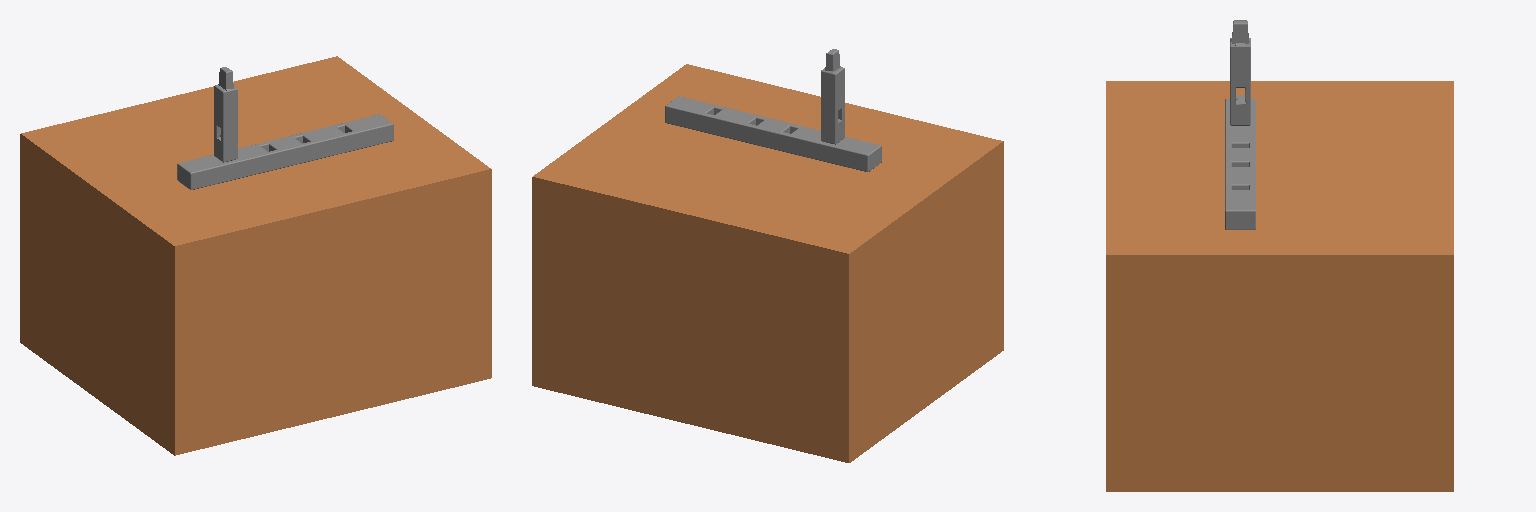
robot.urdf — table_beam_2x_0_scene_0003:
<?xml version="1.0"?>
<robot name="table_beam_2x_0_scene_0003">
  <link name="box">
    <visual>
      <material name="wood"><color rgba="0.82 0.56 0.35 1.0"/></material>
      <origin xyz="0 0 0"/>
      <geometry><box size="0.475 0.4 0.3"/></geometry>
    </visual>
    <collision>
      <origin xyz="0 0 0"/>
      <geometry><box size="0.475 0.4 0.3"/></geometry>
    </collision>
    <inertial>
      <mass value="500"/>
      <friction value="1.0"/>
      <inertia ixx="1000.0" ixy="0.0" ixz="0.0" iyy="1000.0" iyz="0.0" izz="1000.0"/>
    </inertial>
  </link>
  <link name="part_6_canonical">
    <visual>
      <origin xyz="0 0 0" rpy="0 0 0"/>
      <geometry><mesh filename="../../6/6_canonical.obj" scale="1 1 1"/></geometry>
      <material name="placed_0"><color rgba="0.6 0.6 0.6 1.0"/></material>
    </visual>
    <collision>
      <origin xyz="0 0 0" rpy="0 0 0"/>
      <geometry><mesh filename="../../6/6_canonical.obj" scale="1 1 1"/></geometry>
    </collision>
  </link>
  <joint name="part_6_canonical_joint" type="fixed">
    <parent link="box"/>
    <child link="part_6_canonical"/>
    <origin xyz="0.018060 -0.045461 0.162666" rpy="0.000000 0.000000 0.000000"/>
  </joint>
  <link name="part_2_hull_0">
    <visual>
      <origin xyz="0 0 0" rpy="0 0 0"/>
      <geometry><mesh filename="../../2/coacd/decomp_0.obj" scale="1 1 1"/></geometry>
      <material name="placed_1"><color rgba="0.6 0.6 0.6 1.0"/></material>
    </visual>
    <collision>
      <origin xyz="0 0 0" rpy="0 0 0"/>
      <geometry><mesh filename="../../2/coacd/decomp_0.obj" scale="1 1 1"/></geometry>
    </collision>
  </link>
  <joint name="part_2_hull_0_joint" type="fixed">
    <parent link="box"/>
    <child link="part_2_hull_0"/>
    <origin xyz="-0.070867 -0.045461 0.225384" rpy="0.000000 -1.570796 0.000000"/>
  </joint>
  <link name="part_2_hull_1">
    <visual>
      <origin xyz="0 0 0" rpy="0 0 0"/>
      <geometry><mesh filename="../../2/coacd/decomp_1.obj" scale="1 1 1"/></geometry>
      <material name="placed_2"><color rgba="0.6 0.6 0.6 1.0"/></material>
    </visual>
    <collision>
      <origin xyz="0 0 0" rpy="0 0 0"/>
      <geometry><mesh filename="../../2/coacd/decomp_1.obj" scale="1 1 1"/></geometry>
    </collision>
  </link>
  <joint name="part_2_hull_1_joint" type="fixed">
    <parent link="box"/>
    <child link="part_2_hull_1"/>
    <origin xyz="-0.070867 -0.045461 0.225384" rpy="0.000000 -1.570796 0.000000"/>
  </joint>
  <link name="part_2_hull_2">
    <visual>
      <origin xyz="0 0 0" rpy="0 0 0"/>
      <geometry><mesh filename="../../2/coacd/decomp_10.obj" scale="1 1 1"/></geometry>
      <material name="placed_3"><color rgba="0.6 0.6 0.6 1.0"/></material>
    </visual>
    <collision>
      <origin xyz="0 0 0" rpy="0 0 0"/>
      <geometry><mesh filename="../../2/coacd/decomp_10.obj" scale="1 1 1"/></geometry>
    </collision>
  </link>
  <joint name="part_2_hull_2_joint" type="fixed">
    <parent link="box"/>
    <child link="part_2_hull_2"/>
    <origin xyz="-0.070867 -0.045461 0.225384" rpy="0.000000 -1.570796 0.000000"/>
  </joint>
  <link name="part_2_hull_3">
    <visual>
      <origin xyz="0 0 0" rpy="0 0 0"/>
      <geometry><mesh filename="../../2/coacd/decomp_11.obj" scale="1 1 1"/></geometry>
      <material name="placed_4"><color rgba="0.6 0.6 0.6 1.0"/></material>
    </visual>
    <collision>
      <origin xyz="0 0 0" rpy="0 0 0"/>
      <geometry><mesh filename="../../2/coacd/decomp_11.obj" scale="1 1 1"/></geometry>
    </collision>
  </link>
  <joint name="part_2_hull_3_joint" type="fixed">
    <parent link="box"/>
    <child link="part_2_hull_3"/>
    <origin xyz="-0.070867 -0.045461 0.225384" rpy="0.000000 -1.570796 0.000000"/>
  </joint>
  <link name="part_2_hull_4">
    <visual>
      <origin xyz="0 0 0" rpy="0 0 0"/>
      <geometry><mesh filename="../../2/coacd/decomp_12.obj" scale="1 1 1"/></geometry>
      <material name="placed_5"><color rgba="0.6 0.6 0.6 1.0"/></material>
    </visual>
    <collision>
      <origin xyz="0 0 0" rpy="0 0 0"/>
      <geometry><mesh filename="../../2/coacd/decomp_12.obj" scale="1 1 1"/></geometry>
    </collision>
  </link>
  <joint name="part_2_hull_4_joint" type="fixed">
    <parent link="box"/>
    <child link="part_2_hull_4"/>
    <origin xyz="-0.070867 -0.045461 0.225384" rpy="0.000000 -1.570796 0.000000"/>
  </joint>
  <link name="part_2_hull_5">
    <visual>
      <origin xyz="0 0 0" rpy="0 0 0"/>
      <geometry><mesh filename="../../2/coacd/decomp_13.obj" scale="1 1 1"/></geometry>
      <material name="placed_6"><color rgba="0.6 0.6 0.6 1.0"/></material>
    </visual>
    <collision>
      <origin xyz="0 0 0" rpy="0 0 0"/>
      <geometry><mesh filename="../../2/coacd/decomp_13.obj" scale="1 1 1"/></geometry>
    </collision>
  </link>
  <joint name="part_2_hull_5_joint" type="fixed">
    <parent link="box"/>
    <child link="part_2_hull_5"/>
    <origin xyz="-0.070867 -0.045461 0.225384" rpy="0.000000 -1.570796 0.000000"/>
  </joint>
  <link name="part_2_hull_6">
    <visual>
      <origin xyz="0 0 0" rpy="0 0 0"/>
      <geometry><mesh filename="../../2/coacd/decomp_14.obj" scale="1 1 1"/></geometry>
      <material name="placed_7"><color rgba="0.6 0.6 0.6 1.0"/></material>
    </visual>
    <collision>
      <origin xyz="0 0 0" rpy="0 0 0"/>
      <geometry><mesh filename="../../2/coacd/decomp_14.obj" scale="1 1 1"/></geometry>
    </collision>
  </link>
  <joint name="part_2_hull_6_joint" type="fixed">
    <parent link="box"/>
    <child link="part_2_hull_6"/>
    <origin xyz="-0.070867 -0.045461 0.225384" rpy="0.000000 -1.570796 0.000000"/>
  </joint>
  <link name="part_2_hull_7">
    <visual>
      <origin xyz="0 0 0" rpy="0 0 0"/>
      <geometry><mesh filename="../../2/coacd/decomp_15.obj" scale="1 1 1"/></geometry>
      <material name="placed_8"><color rgba="0.6 0.6 0.6 1.0"/></material>
    </visual>
    <collision>
      <origin xyz="0 0 0" rpy="0 0 0"/>
      <geometry><mesh filename="../../2/coacd/decomp_15.obj" scale="1 1 1"/></geometry>
    </collision>
  </link>
  <joint name="part_2_hull_7_joint" type="fixed">
    <parent link="box"/>
    <child link="part_2_hull_7"/>
    <origin xyz="-0.070867 -0.045461 0.225384" rpy="0.000000 -1.570796 0.000000"/>
  </joint>
  <link name="part_2_hull_8">
    <visual>
      <origin xyz="0 0 0" rpy="0 0 0"/>
      <geometry><mesh filename="../../2/coacd/decomp_2.obj" scale="1 1 1"/></geometry>
      <material name="placed_9"><color rgba="0.6 0.6 0.6 1.0"/></material>
    </visual>
    <collision>
      <origin xyz="0 0 0" rpy="0 0 0"/>
      <geometry><mesh filename="../../2/coacd/decomp_2.obj" scale="1 1 1"/></geometry>
    </collision>
  </link>
  <joint name="part_2_hull_8_joint" type="fixed">
    <parent link="box"/>
    <child link="part_2_hull_8"/>
    <origin xyz="-0.070867 -0.045461 0.225384" rpy="0.000000 -1.570796 0.000000"/>
  </joint>
  <link name="part_2_hull_9">
    <visual>
      <origin xyz="0 0 0" rpy="0 0 0"/>
      <geometry><mesh filename="../../2/coacd/decomp_3.obj" scale="1 1 1"/></geometry>
      <material name="placed_10"><color rgba="0.6 0.6 0.6 1.0"/></material>
    </visual>
    <collision>
      <origin xyz="0 0 0" rpy="0 0 0"/>
      <geometry><mesh filename="../../2/coacd/decomp_3.obj" scale="1 1 1"/></geometry>
    </collision>
  </link>
  <joint name="part_2_hull_9_joint" type="fixed">
    <parent link="box"/>
    <child link="part_2_hull_9"/>
    <origin xyz="-0.070867 -0.045461 0.225384" rpy="0.000000 -1.570796 0.000000"/>
  </joint>
  <link name="part_2_hull_10">
    <visual>
      <origin xyz="0 0 0" rpy="0 0 0"/>
      <geometry><mesh filename="../../2/coacd/decomp_4.obj" scale="1 1 1"/></geometry>
      <material name="placed_11"><color rgba="0.6 0.6 0.6 1.0"/></material>
    </visual>
    <collision>
      <origin xyz="0 0 0" rpy="0 0 0"/>
      <geometry><mesh filename="../../2/coacd/decomp_4.obj" scale="1 1 1"/></geometry>
    </collision>
  </link>
  <joint name="part_2_hull_10_joint" type="fixed">
    <parent link="box"/>
    <child link="part_2_hull_10"/>
    <origin xyz="-0.070867 -0.045461 0.225384" rpy="0.000000 -1.570796 0.000000"/>
  </joint>
  <link name="part_2_hull_11">
    <visual>
      <origin xyz="0 0 0" rpy="0 0 0"/>
      <geometry><mesh filename="../../2/coacd/decomp_5.obj" scale="1 1 1"/></geometry>
      <material name="placed_12"><color rgba="0.6 0.6 0.6 1.0"/></material>
    </visual>
    <collision>
      <origin xyz="0 0 0" rpy="0 0 0"/>
      <geometry><mesh filename="../../2/coacd/decomp_5.obj" scale="1 1 1"/></geometry>
    </collision>
  </link>
  <joint name="part_2_hull_11_joint" type="fixed">
    <parent link="box"/>
    <child link="part_2_hull_11"/>
    <origin xyz="-0.070867 -0.045461 0.225384" rpy="0.000000 -1.570796 0.000000"/>
  </joint>
  <link name="part_2_hull_12">
    <visual>
      <origin xyz="0 0 0" rpy="0 0 0"/>
      <geometry><mesh filename="../../2/coacd/decomp_6.obj" scale="1 1 1"/></geometry>
      <material name="placed_13"><color rgba="0.6 0.6 0.6 1.0"/></material>
    </visual>
    <collision>
      <origin xyz="0 0 0" rpy="0 0 0"/>
      <geometry><mesh filename="../../2/coacd/decomp_6.obj" scale="1 1 1"/></geometry>
    </collision>
  </link>
  <joint name="part_2_hull_12_joint" type="fixed">
    <parent link="box"/>
    <child link="part_2_hull_12"/>
    <origin xyz="-0.070867 -0.045461 0.225384" rpy="0.000000 -1.570796 0.000000"/>
  </joint>
  <link name="part_2_hull_13">
    <visual>
      <origin xyz="0 0 0" rpy="0 0 0"/>
      <geometry><mesh filename="../../2/coacd/decomp_7.obj" scale="1 1 1"/></geometry>
      <material name="placed_14"><color rgba="0.6 0.6 0.6 1.0"/></material>
    </visual>
    <collision>
      <origin xyz="0 0 0" rpy="0 0 0"/>
      <geometry><mesh filename="../../2/coacd/decomp_7.obj" scale="1 1 1"/></geometry>
    </collision>
  </link>
  <joint name="part_2_hull_13_joint" type="fixed">
    <parent link="box"/>
    <child link="part_2_hull_13"/>
    <origin xyz="-0.070867 -0.045461 0.225384" rpy="0.000000 -1.570796 0.000000"/>
  </joint>
  <link name="part_2_hull_14">
    <visual>
      <origin xyz="0 0 0" rpy="0 0 0"/>
      <geometry><mesh filename="../../2/coacd/decomp_8.obj" scale="1 1 1"/></geometry>
      <material name="placed_15"><color rgba="0.6 0.6 0.6 1.0"/></material>
    </visual>
    <collision>
      <origin xyz="0 0 0" rpy="0 0 0"/>
      <geometry><mesh filename="../../2/coacd/decomp_8.obj" scale="1 1 1"/></geometry>
    </collision>
  </link>
  <joint name="part_2_hull_14_joint" type="fixed">
    <parent link="box"/>
    <child link="part_2_hull_14"/>
    <origin xyz="-0.070867 -0.045461 0.225384" rpy="0.000000 -1.570796 0.000000"/>
  </joint>
  <link name="part_2_hull_15">
    <visual>
      <origin xyz="0 0 0" rpy="0 0 0"/>
      <geometry><mesh filename="../../2/coacd/decomp_9.obj" scale="1 1 1"/></geometry>
      <material name="placed_16"><color rgba="0.6 0.6 0.6 1.0"/></material>
    </visual>
    <collision>
      <origin xyz="0 0 0" rpy="0 0 0"/>
      <geometry><mesh filename="../../2/coacd/decomp_9.obj" scale="1 1 1"/></geometry>
    </collision>
  </link>
  <joint name="part_2_hull_15_joint" type="fixed">
    <parent link="box"/>
    <child link="part_2_hull_15"/>
    <origin xyz="-0.070867 -0.045461 0.225384" rpy="0.000000 -1.570796 0.000000"/>
  </joint>
</robot>

--- What the picture shows (computed from the rendered views, not written in the file) ---
Views: 3 orthographic renders of the robot side by side, from view 1: azimuth 30°, elevation 25°; view 2: azimuth 150°, elevation 25°; view 3: azimuth 270°, elevation 25°.
Model table_beam_2x_0_scene_0003 with 18 links and 17 joints (17 fixed), rooted at box, posed all joints at 0.
Visible links, largest first — view 1: box, part_6_canonical, part_2_hull_1; view 2: box, part_6_canonical, part_2_hull_1; view 3: box, part_6_canonical.
Boxes of the visible links, bbox=[...] form: box: bbox=[20, 56, 491, 455]; part_6_canonical: bbox=[177, 114, 393, 189]; part_2_hull_1: bbox=[214, 85, 226, 129]; box: bbox=[532, 64, 1003, 462]; part_6_canonical: bbox=[665, 96, 881, 171]; part_2_hull_1: bbox=[832, 67, 844, 111]; box: bbox=[1106, 81, 1453, 491]; part_6_canonical: bbox=[1225, 99, 1255, 229].
Bounding box of the posed robot: 0.475 × 0.4 × 0.4524 m (x, y, z).
Meshes: 17 distinct files referenced, 17 mesh visuals loaded (17 OBJ).
